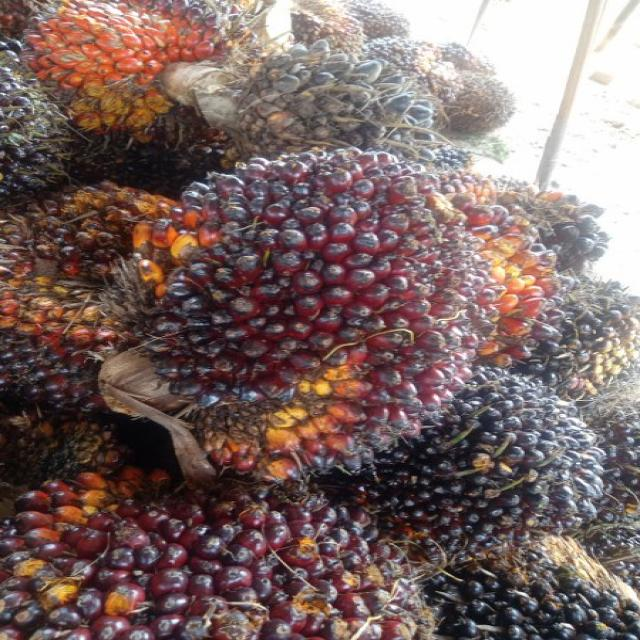fraksi 00: (361, 342, 613, 558)
fraksi 1: (126, 145, 524, 475)
fraksi 4: (39, 7, 229, 144)
